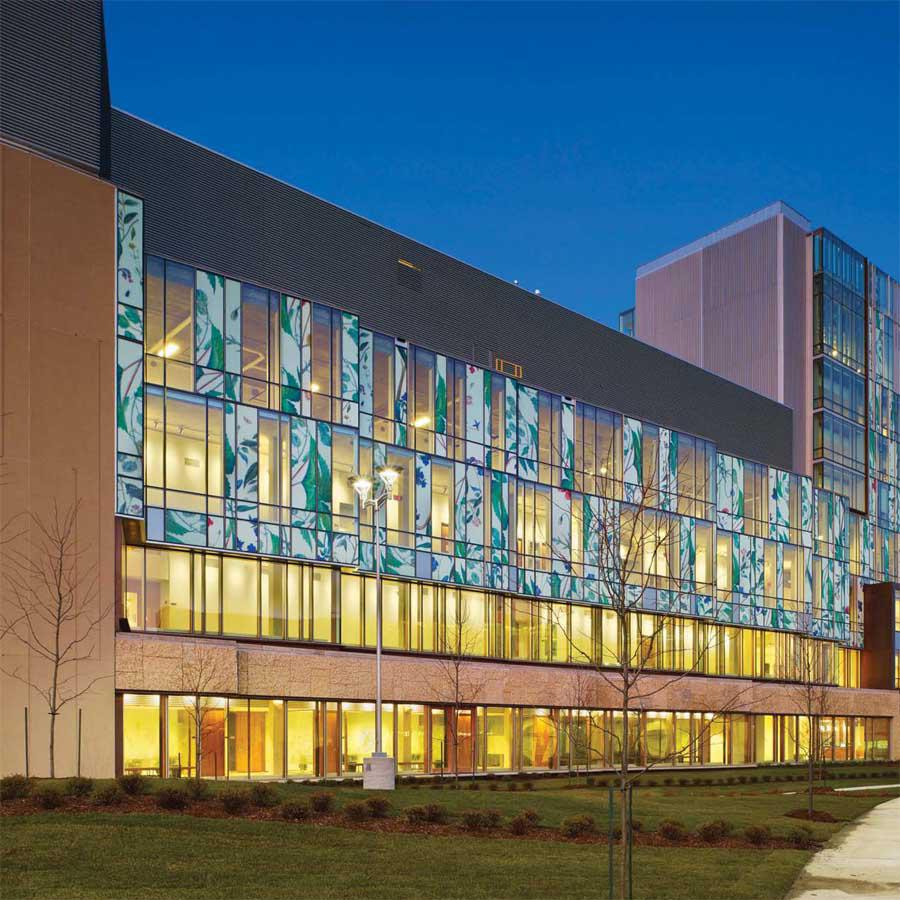affected: (7, 64, 900, 823)
